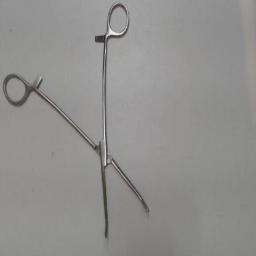Lahey Forceps: (2, 0, 154, 244)
